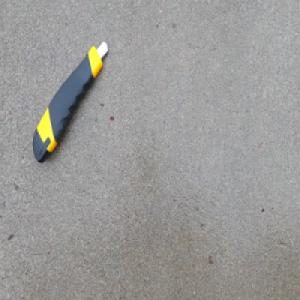Cutter: (31, 40, 109, 166)
